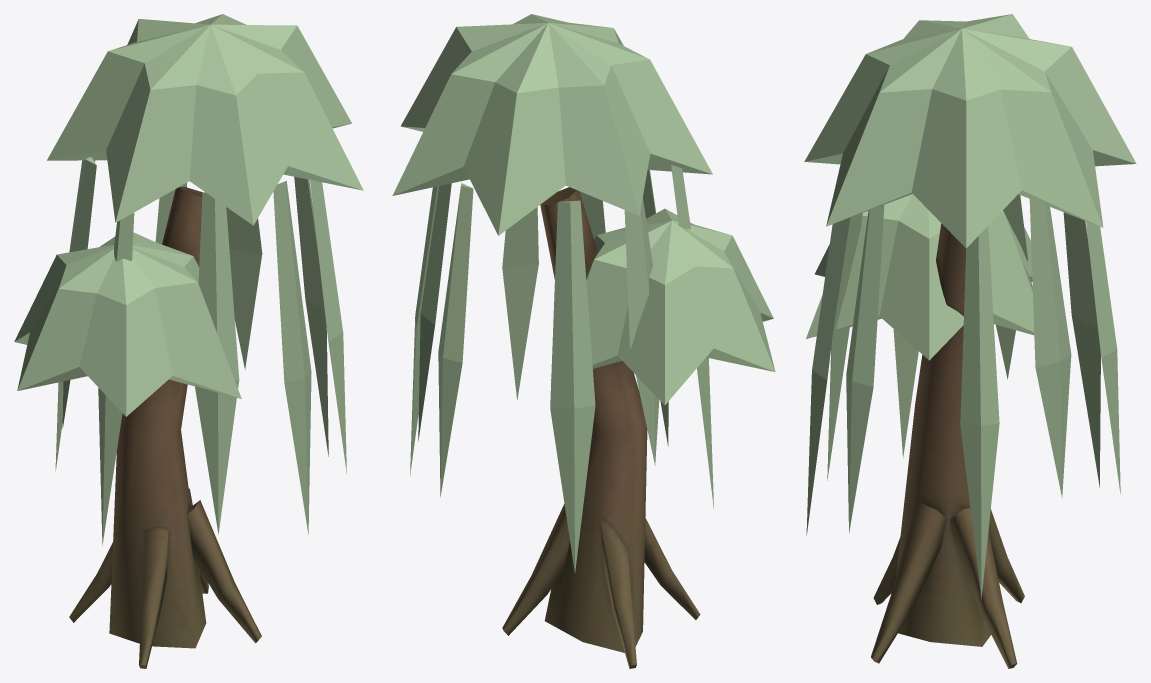
Rendered from arv_salgueiro_3.glb.
3 views of the same model, side by side, from view 1: azimuth 30°, elevation 25°; view 2: azimuth 150°, elevation 25°; view 3: azimuth 270°, elevation 25° (orthographic). The views are drawn at different scales.
Visible parts, largest first — view 1: arv_salgueiro_3_corpo; view 2: arv_salgueiro_3_corpo; view 3: arv_salgueiro_3_corpo.
Boxes of the visible parts, x1,y1,x2,y2 form: arv_salgueiro_3_corpo: [14, 14, 363, 668]; arv_salgueiro_3_corpo: [392, 14, 775, 668]; arv_salgueiro_3_corpo: [804, 14, 1136, 668].
Bounding box in the file's own units: 0.8788 × 1.41 × 0.6715.
Materials: 2 (1 with a texture image).
